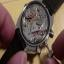watch: (16, 0, 52, 51)
